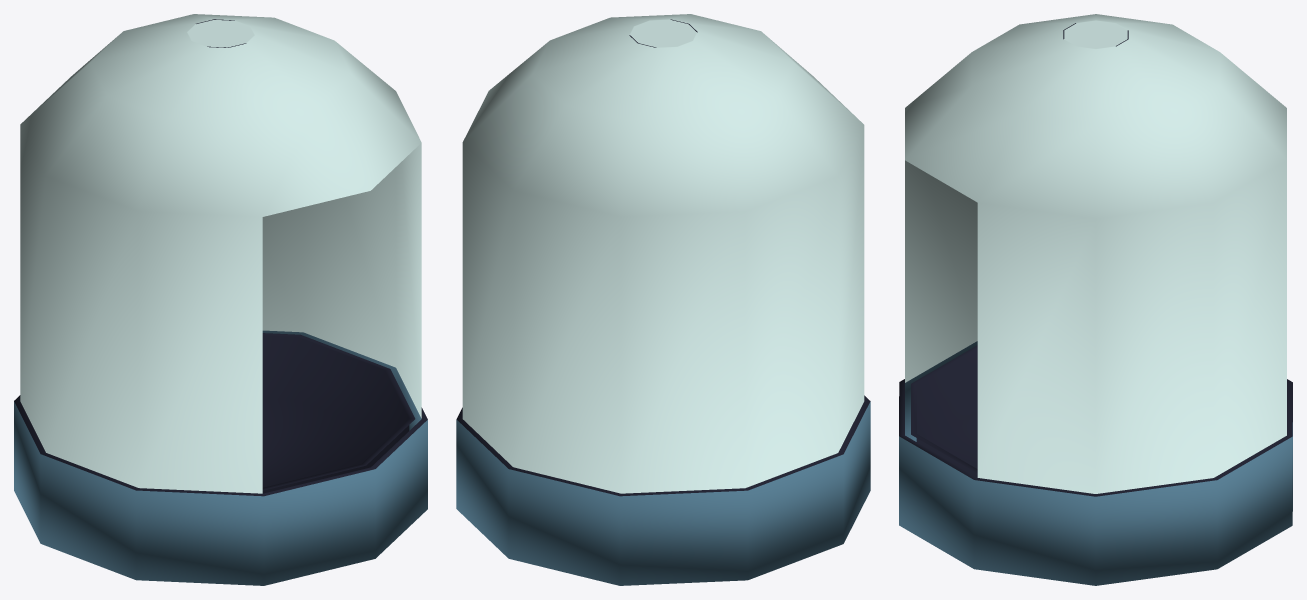
Rendered from Building_CottonCandyBin.fbx.
3 views of the same model, side by side, from view 1: azimuth 30°, elevation 25°; view 2: azimuth 150°, elevation 25°; view 3: azimuth 270°, elevation 25° (orthographic).
Parts seen in each view (by area): view 1: Cylinder.058; view 2: Cylinder.058; view 3: Cylinder.058.
Boxes of the visible parts, bbox=[...] form: Cylinder.058: bbox=[14, 14, 427, 585]; Cylinder.058: bbox=[456, 14, 870, 585]; Cylinder.058: bbox=[899, 14, 1292, 585].
Size of the model in its own units: 56.28 by 69.55 by 53.55.
